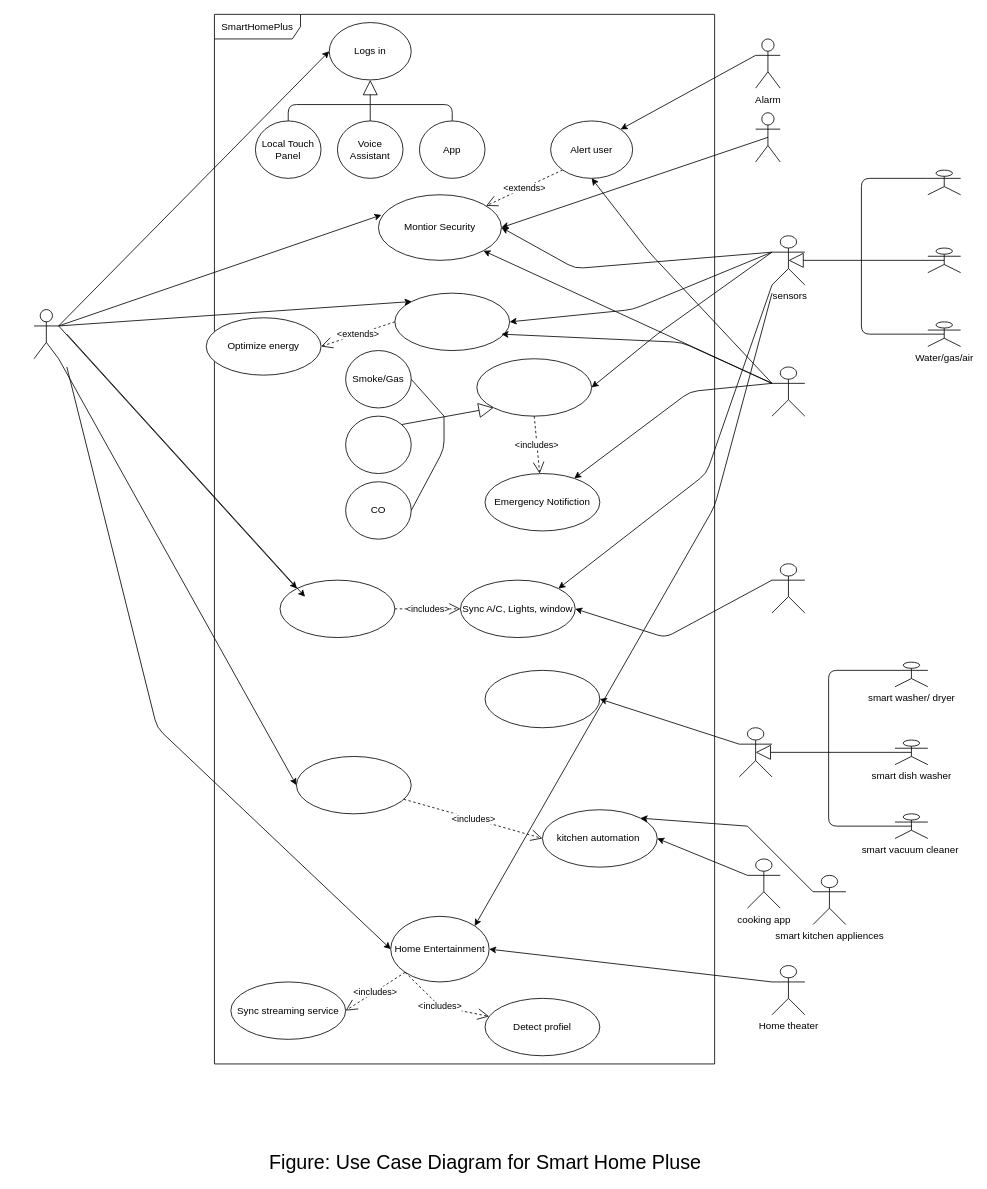
Some shapes in this 987 by 1189 pixel diagram are drawn without their labels. The centre of each missing label's shape, as x and y in pixels:
"automate cleaning" goes at point 542,699.
"Cleaner" goes at point 755,752.
"Control A/C, Lights, window" goes at point 337,608.
"Cooking activity" goes at point 353,785.
"door/window" goes at point 944,182.
"Emergency detection" goes at point 534,387.
"Home resident" goes at point 46,334.
"light" goes at point 944,260.
"Monitor energy use" goes at point 452,321.
"smart A/C" goes at point 788,588.
"smart phone" goes at point 788,391.
"Surveillance Camera" goes at point 767,137.
"water level" goes at point 378,444.
